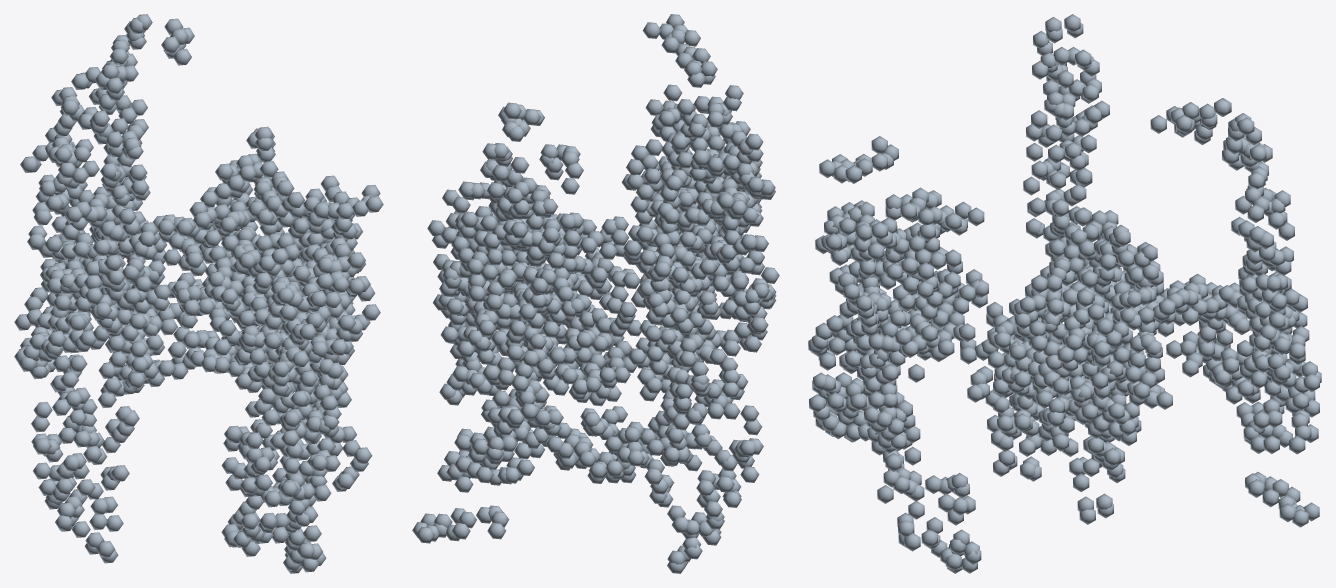
File: npc_cryo.glb
The picture shows the model from 3 angles, left to right: view 1: azimuth 30°, elevation 25°; view 2: azimuth 150°, elevation 25°; view 3: azimuth 270°, elevation 25°; orthographic projection.
Size of the model in its own units: 1.27 by 1.85 by 1.71.
